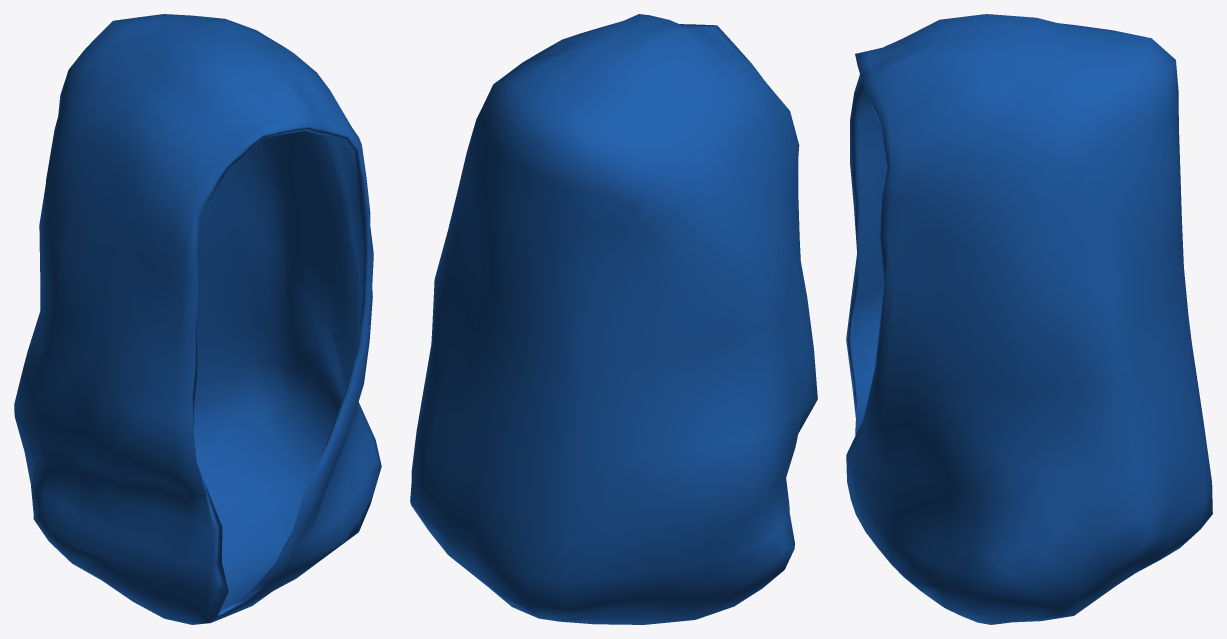
Rendered from hood_final.fbx.
3 views of the same model, side by side, from view 1: azimuth 30°, elevation 25°; view 2: azimuth 150°, elevation 25°; view 3: azimuth 270°, elevation 25° (orthographic). The views are drawn at different scales.
Parts seen in each view (by area): view 1: hood_final1; view 2: hood_final1; view 3: hood_final1.
Part boxes in pixels (x1=…): hood_final1: x1=14, y1=14, x2=381, y2=624; hood_final1: x1=410, y1=14, x2=817, y2=624; hood_final1: x1=846, y1=14, x2=1212, y2=624.
Bounding box in the file's own units: 19.91 × 30.95 × 18.17.
